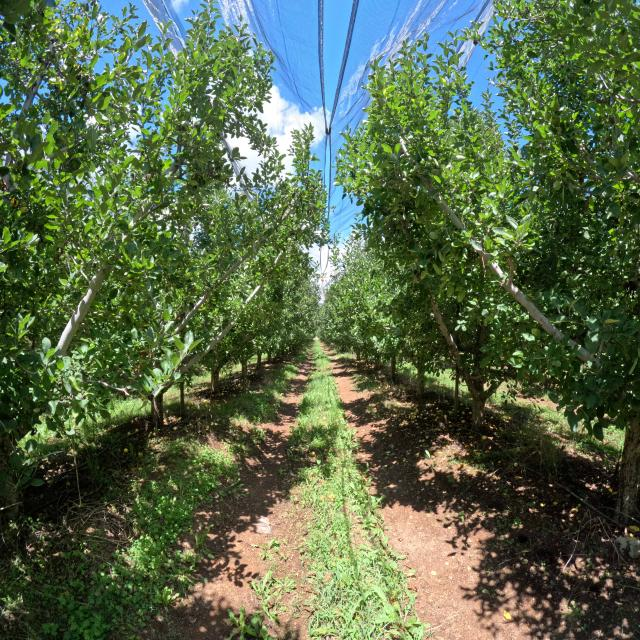-FireBlight-: (137, 349, 157, 364)
